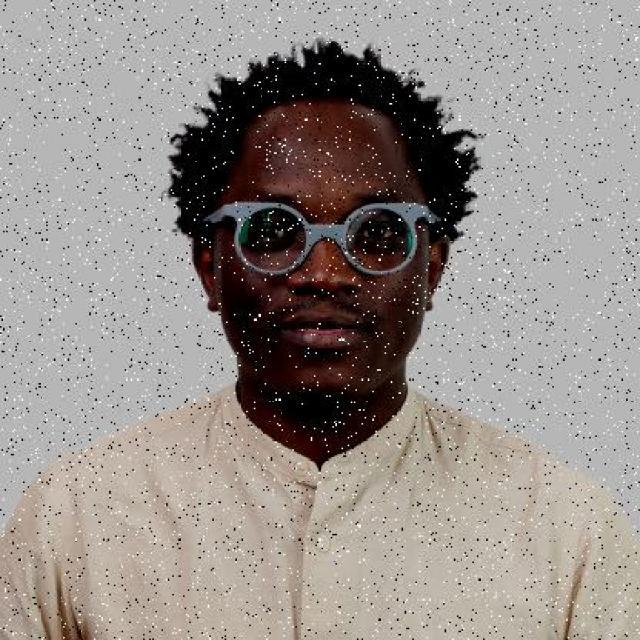sunglasses: (192, 198, 451, 276)
